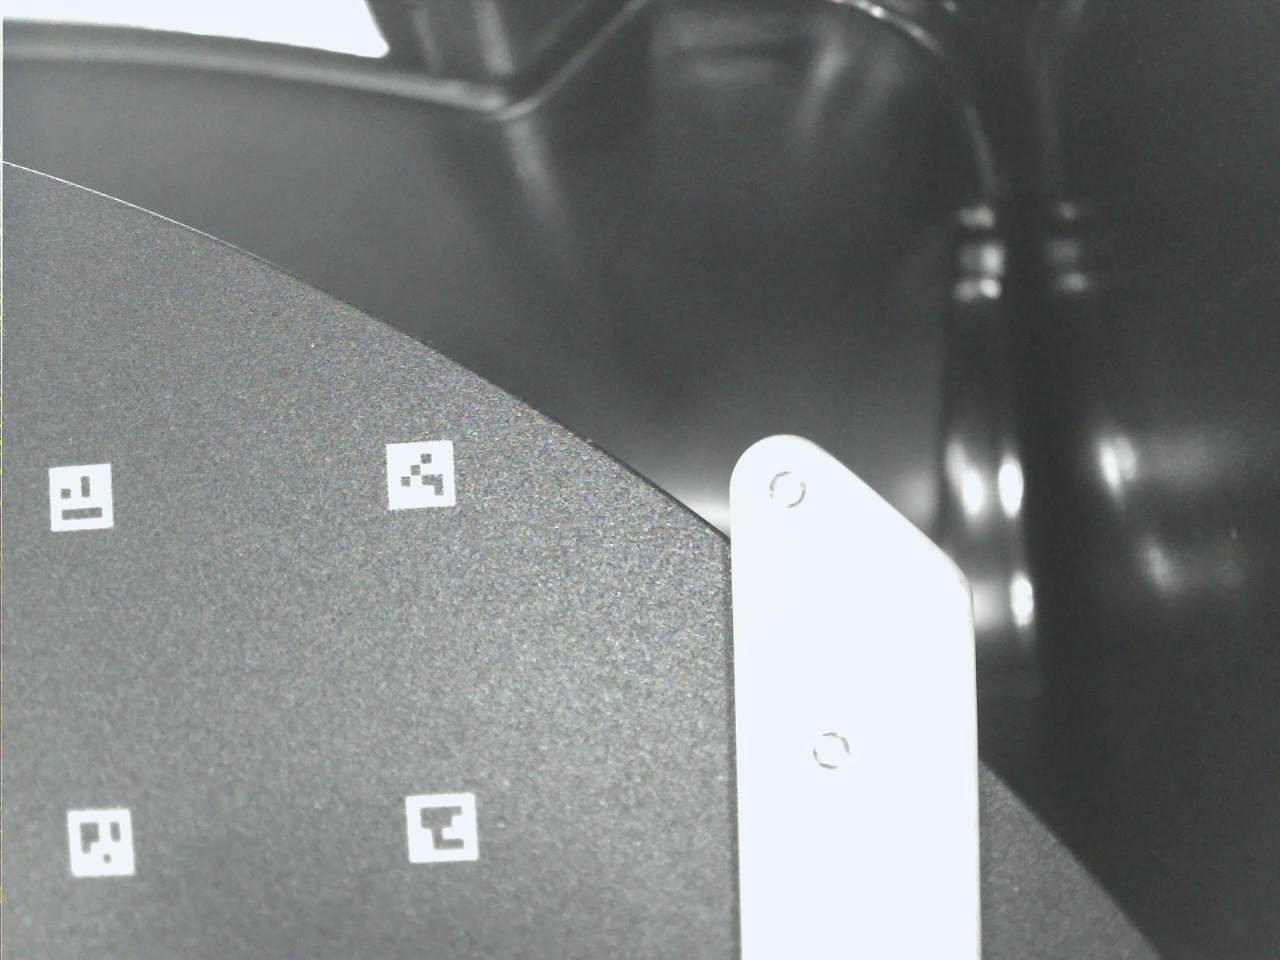forktip: (716, 409, 1001, 960)
